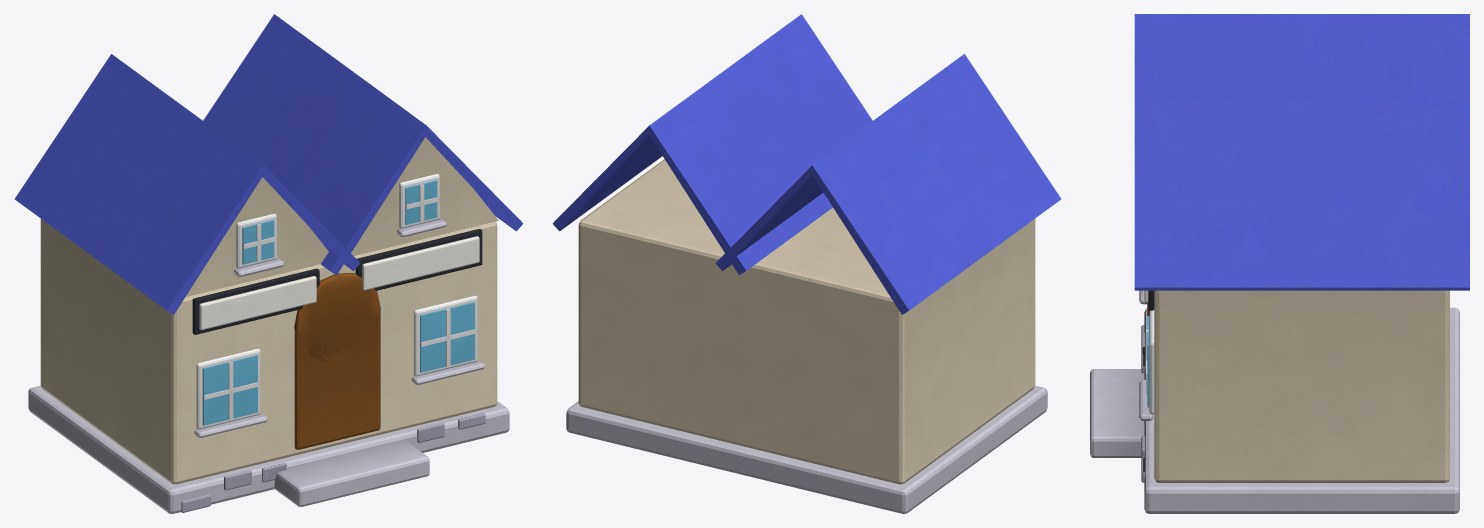
The model's file is atelier2.glb.
3 views of the same model, side by side, from view 1: azimuth 30°, elevation 25°; view 2: azimuth 150°, elevation 25°; view 3: azimuth 270°, elevation 25° (orthographic). The views are drawn at different scales.
Visible parts, largest first — view 1: appui__stone; view 2: appui__stone; view 3: appui__stone.
Part boxes in pixels (x1,y1,x2,y2): appui__stone: (14,14,523,513); appui__stone: (552,14,1061,513); appui__stone: (1090,14,1469,513).
Bounding box in the file's own units: 4.6 × 4.1 × 3.85.
1 material, 1 textured.
